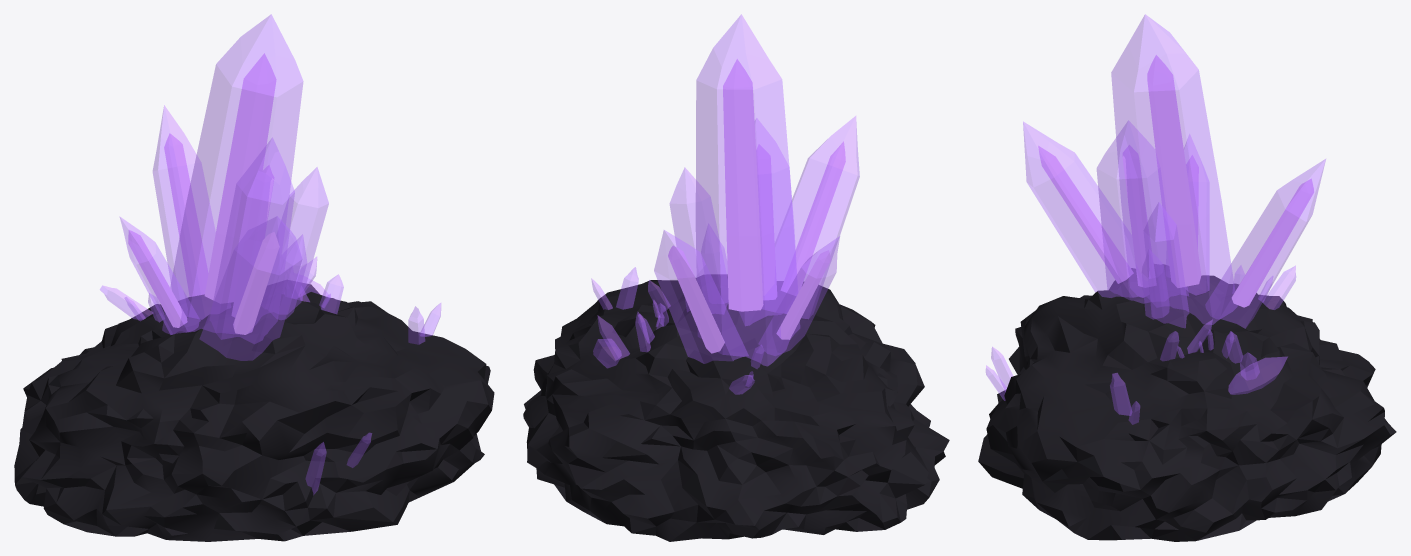
Rendered from Crystals_05_quest.glb.
The picture shows the model from 3 angles, left to right: view 1: azimuth 30°, elevation 25°; view 2: azimuth 150°, elevation 25°; view 3: azimuth 270°, elevation 25°; orthographic projection. The views are drawn at different scales.
Parts seen in each view (by area): view 1: Crystals_05_Rock, Crystals_05_Crystals, Crystals_05_Cores; view 2: Crystals_05_Rock, Crystals_05_Crystals, Crystals_05_Cores; view 3: Crystals_05_Rock, Crystals_05_Crystals, Crystals_05_Cores.
Part boxes in pixels (x1=…): Crystals_05_Rock: x1=14, y1=283, x2=494, y2=541; Crystals_05_Crystals: x1=100, y1=14, x2=440, y2=494; Crystals_05_Cores: x1=128, y1=53, x2=279, y2=334; Crystals_05_Rock: x1=523, y1=275, x2=949, y2=541; Crystals_05_Crystals: x1=591, y1=14, x2=859, y2=394; Crystals_05_Cores: x1=668, y1=59, x2=845, y2=353; Crystals_05_Rock: x1=978, y1=265, x2=1396, y2=541; Crystals_05_Crystals: x1=986, y1=14, x2=1325, y2=424; Crystals_05_Cores: x1=1038, y1=55, x2=1313, y2=307.
Size of the model in its own units: 1.08 by 1.11 by 0.9526.
